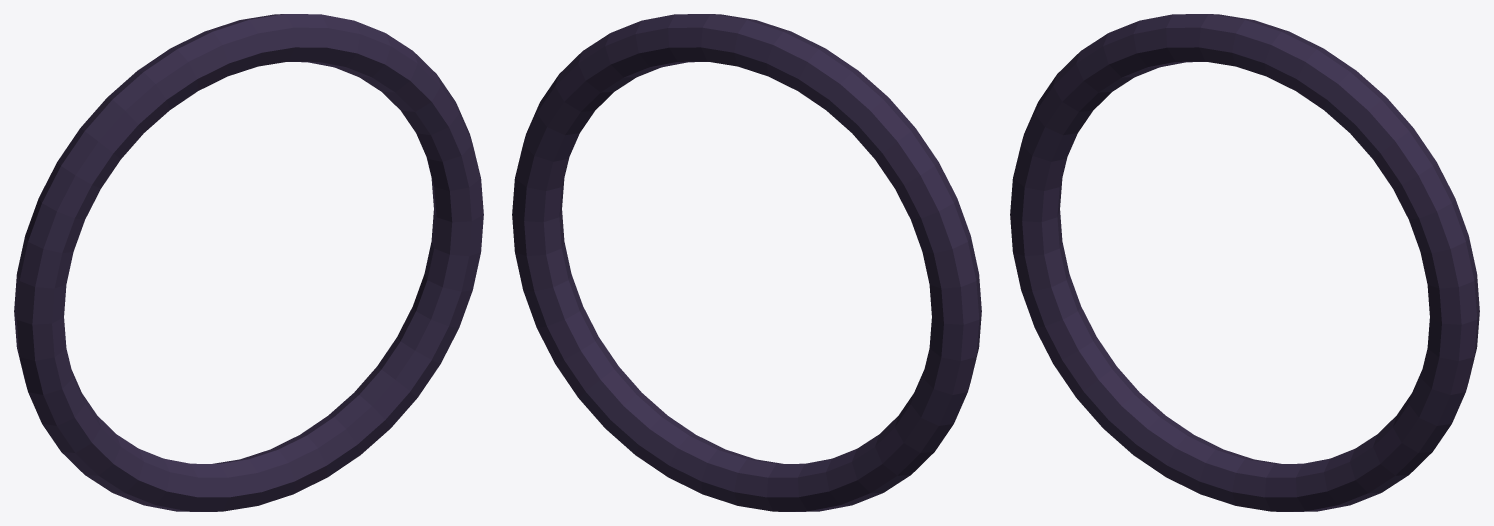
The model's file is StageArch.fbx.
The picture shows the model from 3 angles, left to right: view 1: azimuth 30°, elevation 25°; view 2: azimuth 150°, elevation 25°; view 3: azimuth 330°, elevation 25°; orthographic projection.
Visible parts, largest first — view 1: ArchRing.001; view 2: ArchRing.001; view 3: ArchRing.001.
Part boxes in pixels (x1=…): ArchRing.001: x1=14, y1=14, x2=483, y2=511; ArchRing.001: x1=512, y1=14, x2=981, y2=511; ArchRing.001: x1=1010, y1=14, x2=1479, y2=511.
Bounding box in the file's own units: 3320 × 3320 × 320.
